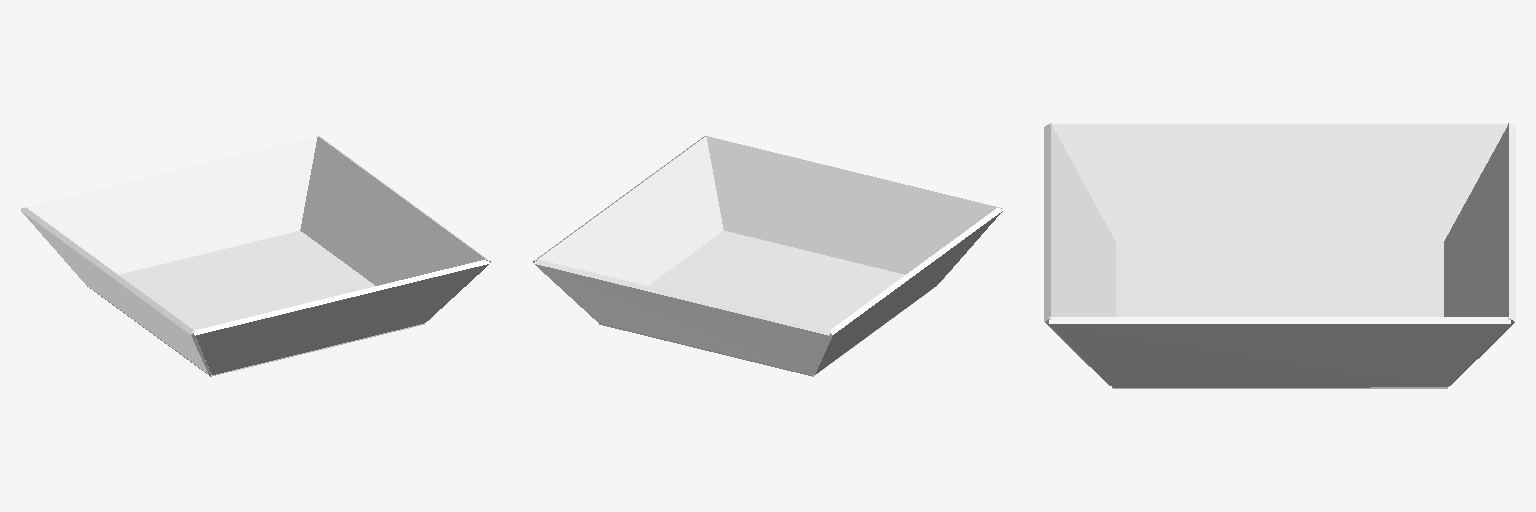
URDF robot description (tabletop):
<robot name="tabletop">
  <link name="base_link">
    <inertial>
      <origin rpy="0 0 0" xyz="0 0 0"/>
      <mass value="1"/>
      <inertia ixx="0.1" ixy="0" ixz="0" iyy="0.1" iyz="0" izz="0.1"/>
    </inertial>
    <visual>
      <origin rpy="0 0 0" xyz="0 0 0"/>
      <geometry>
        <mesh filename="tray_textured.obj" scale="0.5 0.5 0.5"/>
      </geometry>
      <material name="tray_material">
        <color rgba="1 1 1 1"/>
      </material>
    </visual>
     <collision>
      <origin rpy="0 0 0" xyz="0 0 0.005"/>
      <geometry>
	 			<box size=".6 .6 .02"/>
      </geometry>
    </collision>
     <collision>
      <origin rpy="0 0.575469961 0" xyz="0.25 0 0.059"/>
      <geometry>
	 			<box size=".02 .6 .15"/>
      </geometry>
    </collision>
		<collision>
      <origin rpy="0 -0.575469961 0" xyz="-0.25 0 0.059"/>
      <geometry>
	 			<box size=".02 .6 .15"/>
      </geometry>
    </collision>
    <collision>
      <origin rpy="0.575469961 0 0" xyz="0 -0.25 0.059"/>
      <geometry>
	 			<box size=".6 .02 .15"/>
      </geometry>
    </collision>
    <collision>
      <origin rpy="-0.575469961 0 0" xyz="0 0.25 0.059"/>
      <geometry>
	 			<box size=".6 .02 .15"/>
      </geometry>
    </collision>

  </link>
</robot>

--- What the picture shows (computed from the rendered views, not written in the file) ---
3 views of the same robot in one strip: view 1: azimuth 30°, elevation 25°; view 2: azimuth 150°, elevation 25°; view 3: azimuth 270°, elevation 25° (orthographic).
Robot: tabletop — 1 links, 0 joints (none); root link base_link; default pose: all joints at 0.
Links seen in each view (by area): view 1: base_link; view 2: base_link; view 3: base_link.
Boxes of the visible links, x1,y1,x2,y2 form: base_link: (21, 136, 490, 376); base_link: (533, 136, 1002, 376); base_link: (1044, 123, 1515, 388).
Bounding box of the posed robot: 0.5901 × 0.5901 × 0.1356 m (x, y, z).
1 mesh visuals loaded from 1 distinct referenced files (1 OBJ).
